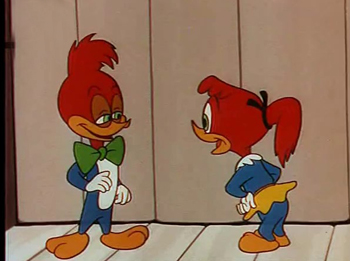picapau: (40, 33, 158, 255), (190, 66, 301, 254)
